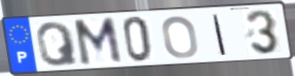0: (121, 15, 156, 64)
3: (243, 8, 282, 57)
I: (211, 13, 228, 57)
M: (71, 16, 125, 68)
O: (160, 15, 200, 60)
Q: (34, 21, 81, 68)
